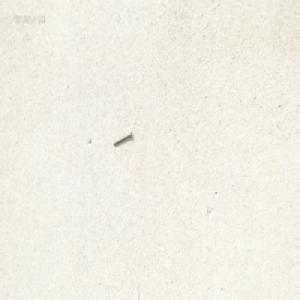Bolt: (112, 130, 132, 146)
